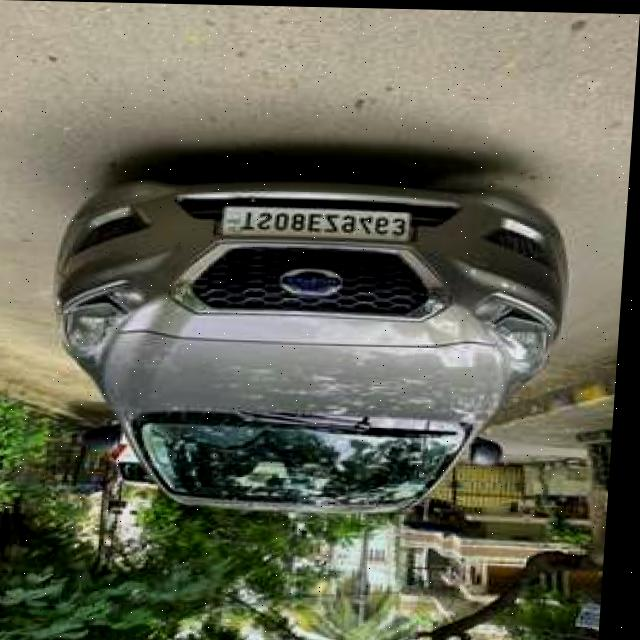plate: (219, 204, 416, 243)
